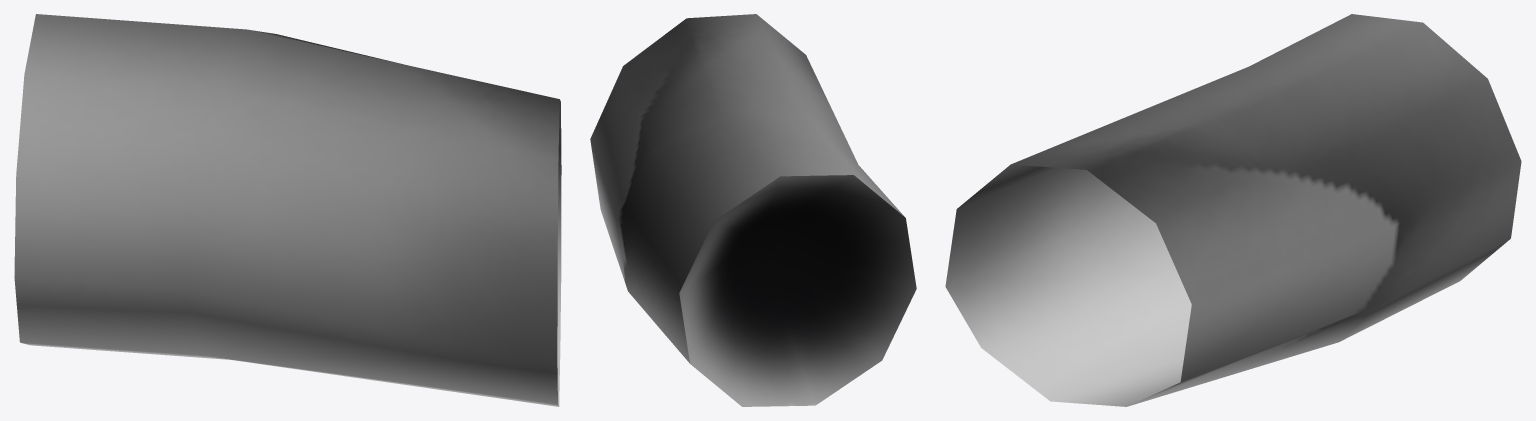
The model's file is Olschool_1_Sidepanel_2_R.fbx.
The picture shows the model from 3 angles, left to right: view 1: azimuth 30°, elevation 25°; view 2: azimuth 150°, elevation 25°; view 3: azimuth 270°, elevation 25°; orthographic projection. The views are drawn at different scales.
Parts seen in each view (by area): view 1: Olschool_1_Sidepanel_2_R; view 2: Olschool_1_Sidepanel_2_R; view 3: Olschool_1_Sidepanel_2_R.
Part boxes in pixels (x1,y1,x2,y2): Olschool_1_Sidepanel_2_R: (14, 14, 561, 406); Olschool_1_Sidepanel_2_R: (590, 14, 916, 406); Olschool_1_Sidepanel_2_R: (945, 14, 1521, 406).
Size of the model in its own units: 88 by 53.43 by 107.
